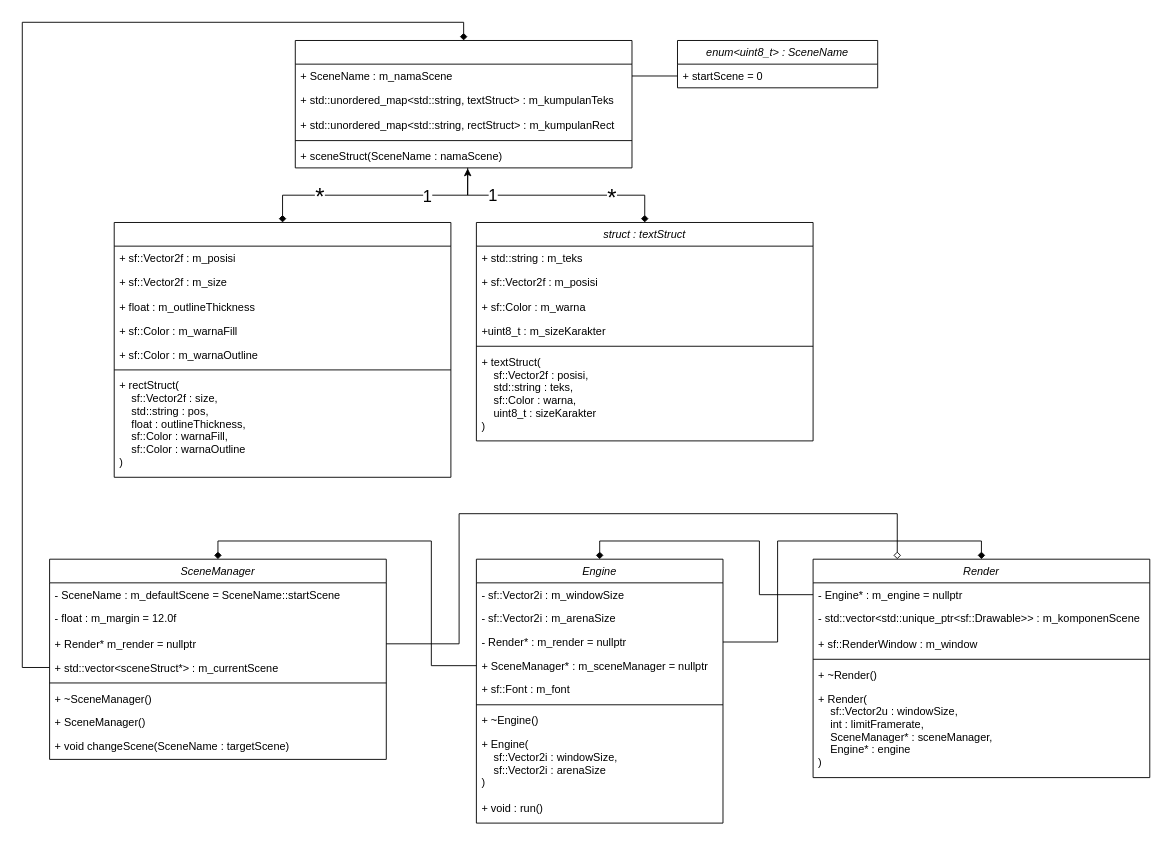
The diagram is 1166 pixels wide and 842 high, and some of its shapes have lost their labels. The box of each missing label's shape, as (x1, y1, x2, y2) in pixels:
struct : rectStruct: (113, 222, 451, 477)
struct : sceneStruct: (294, 40, 632, 168)
